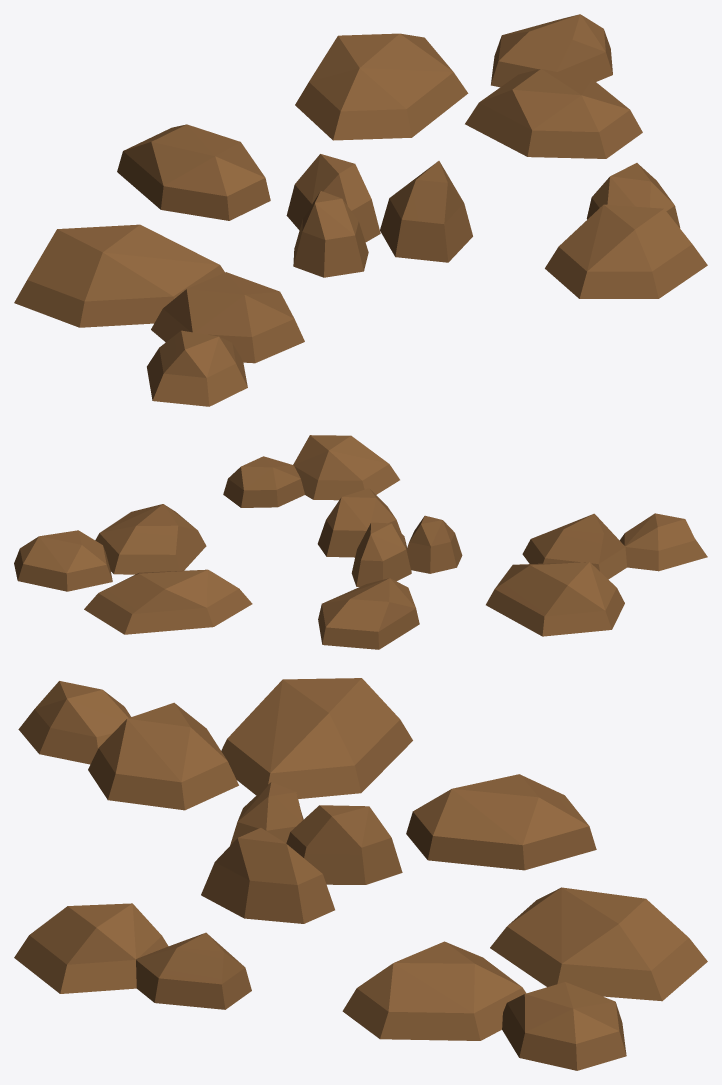
Rendered from rock__pebbles2_dirt_medium.glb.
3 views of the same model, one above another, from view 1: azimuth 30°, elevation 25°; view 2: azimuth 150°, elevation 25°; view 3: azimuth 270°, elevation 25° (orthographic). The views are drawn at different scales.
Visible parts, largest first — view 1: pebbles2.dirt.medium; view 2: pebbles2.dirt.medium; view 3: pebbles2.dirt.medium.
Boxes of the visible parts, bbox=[...] form: pebbles2.dirt.medium: bbox=[14, 14, 707, 406]; pebbles2.dirt.medium: bbox=[14, 435, 707, 649]; pebbles2.dirt.medium: bbox=[14, 678, 707, 1070].
Bounding box in the file's own units: 2.23 × 0.1965 × 1.81.
1 material, 1 textured.
